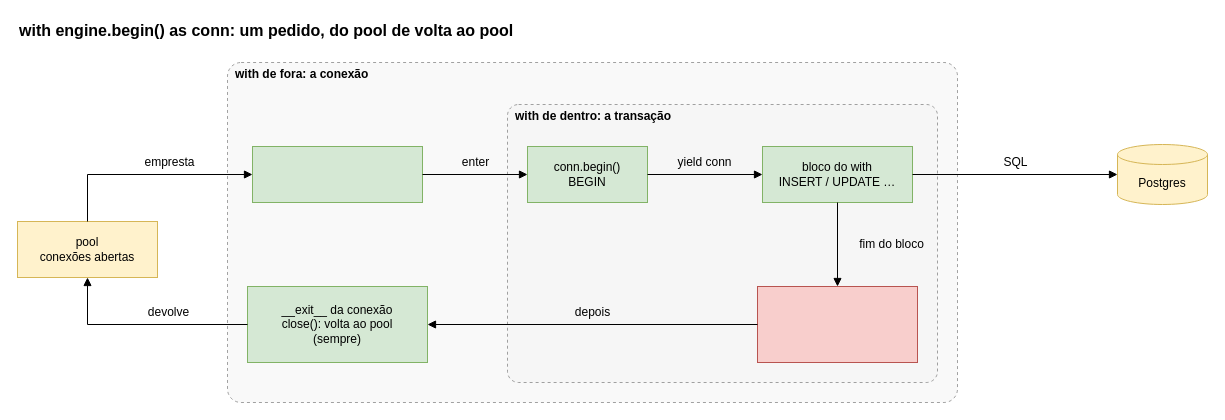
Some shapes in this 1225 by 420 pixel diagram are drawn without their labels. The box of each missing label's shape, as (x1, y1, x2, y2) in pixels:
__exit__ da transação sem erro → COMMIT com erro → ROLLBACK: (756, 286, 918, 362)
connect() empresta uma conexão: (252, 146, 422, 202)
